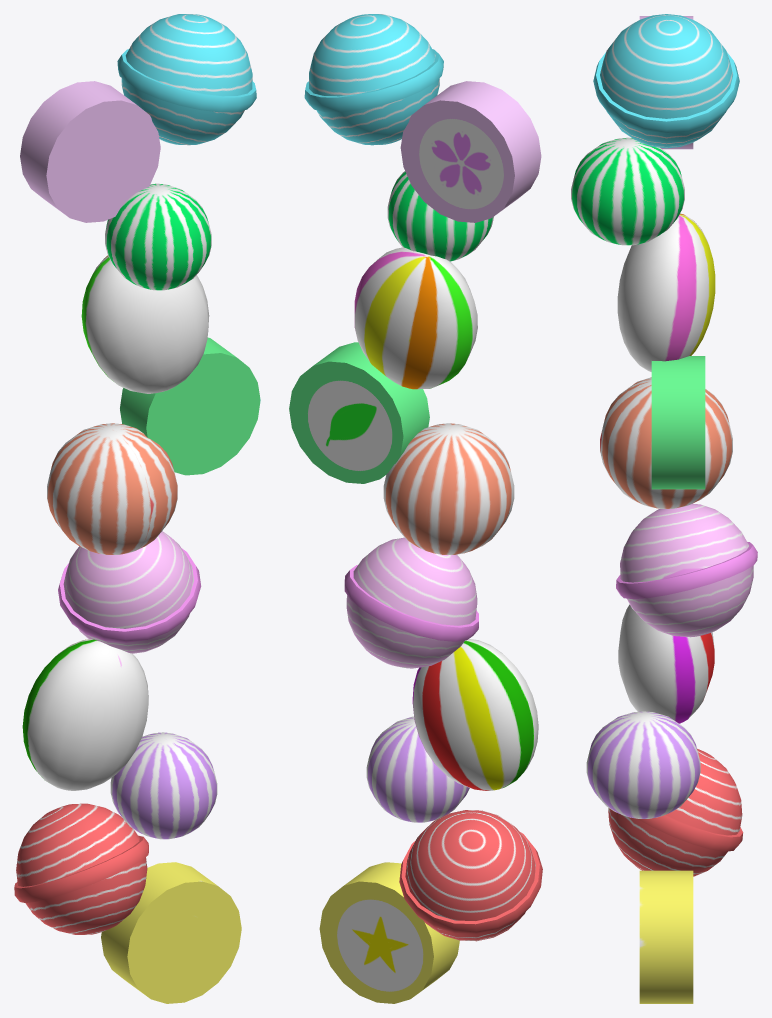
Rendered from Obj_piller_05.fbx.
The picture shows the model from 3 angles, left to right: view 1: azimuth 30°, elevation 25°; view 2: azimuth 150°, elevation 25°; view 3: azimuth 270°, elevation 25°; orthographic projection.
Parts seen in each view (by area): view 1: pSphere11; view 2: pSphere11; view 3: pSphere11.
Part boxes in pixels (x1,y1,x2,y2): pSphere11: [14, 14, 260, 1003]; pSphere11: [289, 14, 542, 1003]; pSphere11: [571, 14, 757, 1003].
Bounding box in the file's own units: 99.86 × 405 × 69.49.
